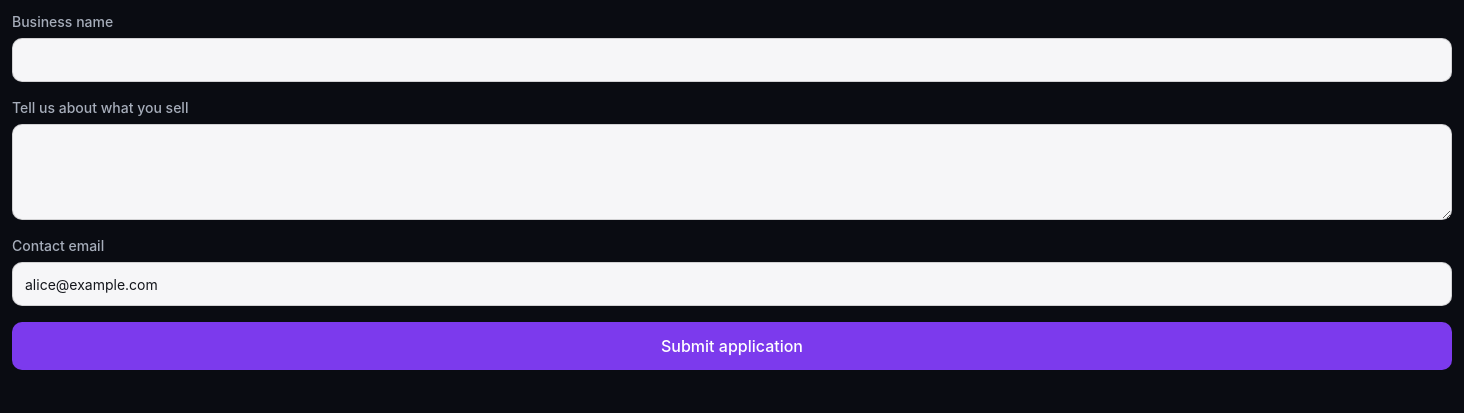
SellerApplicationForm › rejects a description that is too short with a specific message
Type "Alice Fine Art" into the field labelled "Business name". click: {"x": 732, "y": 60}
box: x1=12 y1=38 x2=1452 y2=82
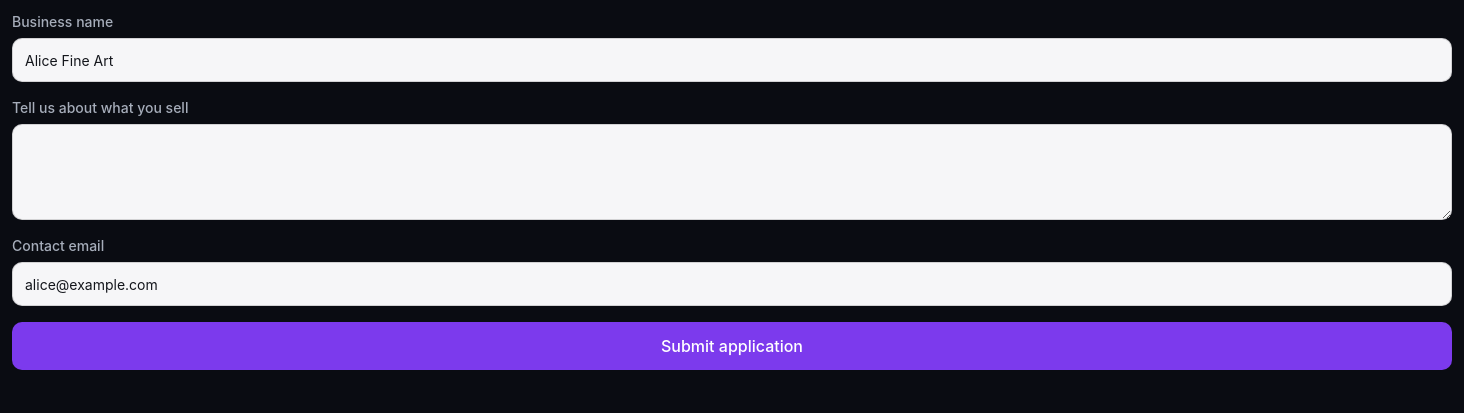
Type "short" into the text box labelled "Tell us about what you sell". click: {"x": 732, "y": 172}
box: x1=12 y1=124 x2=1452 y2=220
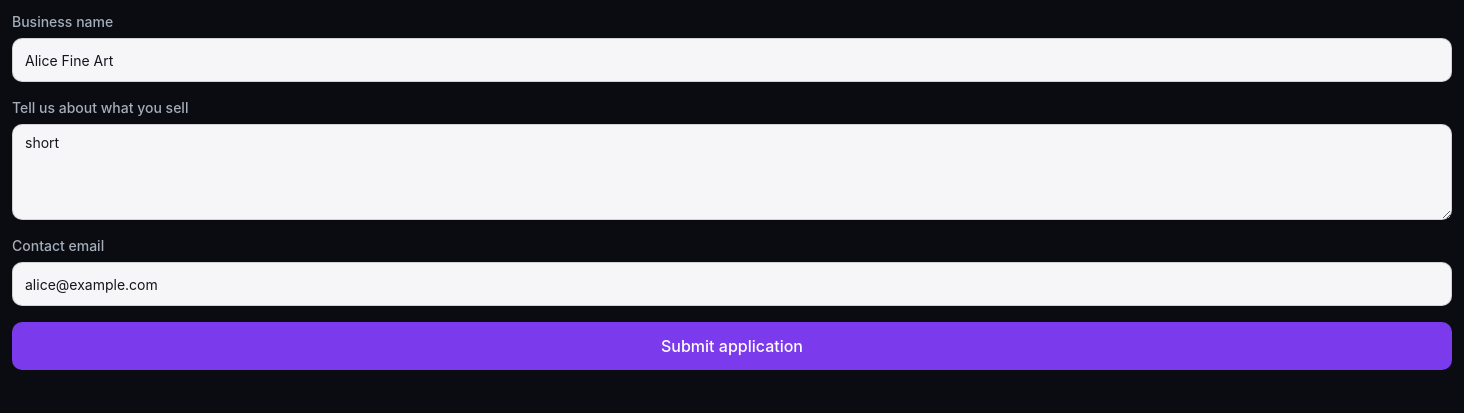
Click the button "Submit application". click: {"x": 732, "y": 346}
box: x1=12 y1=322 x2=1452 y2=370
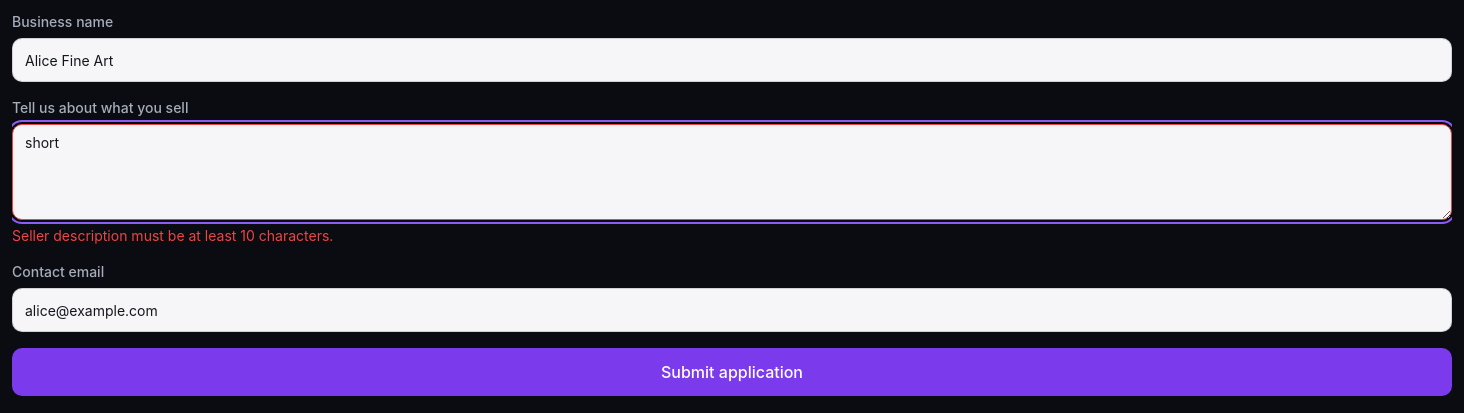
Now the text "Seller description must be at least 10 characters." is shown, box x1=12 y1=227 x2=333 y2=244
